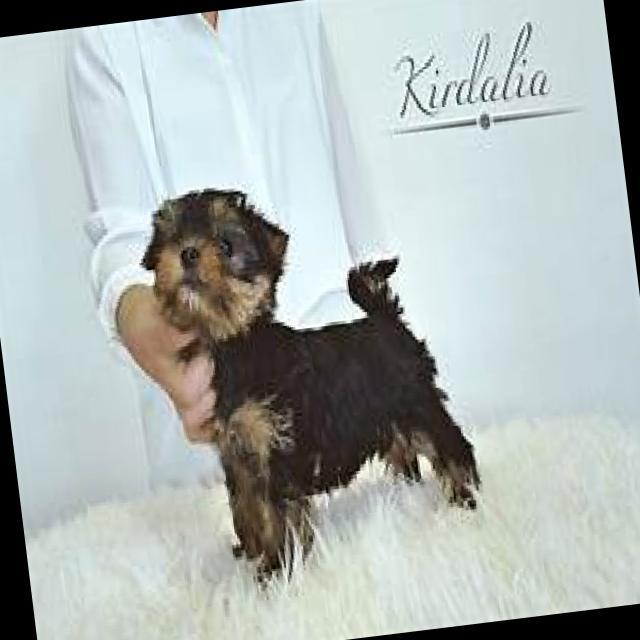animal: (134, 160, 487, 586)
